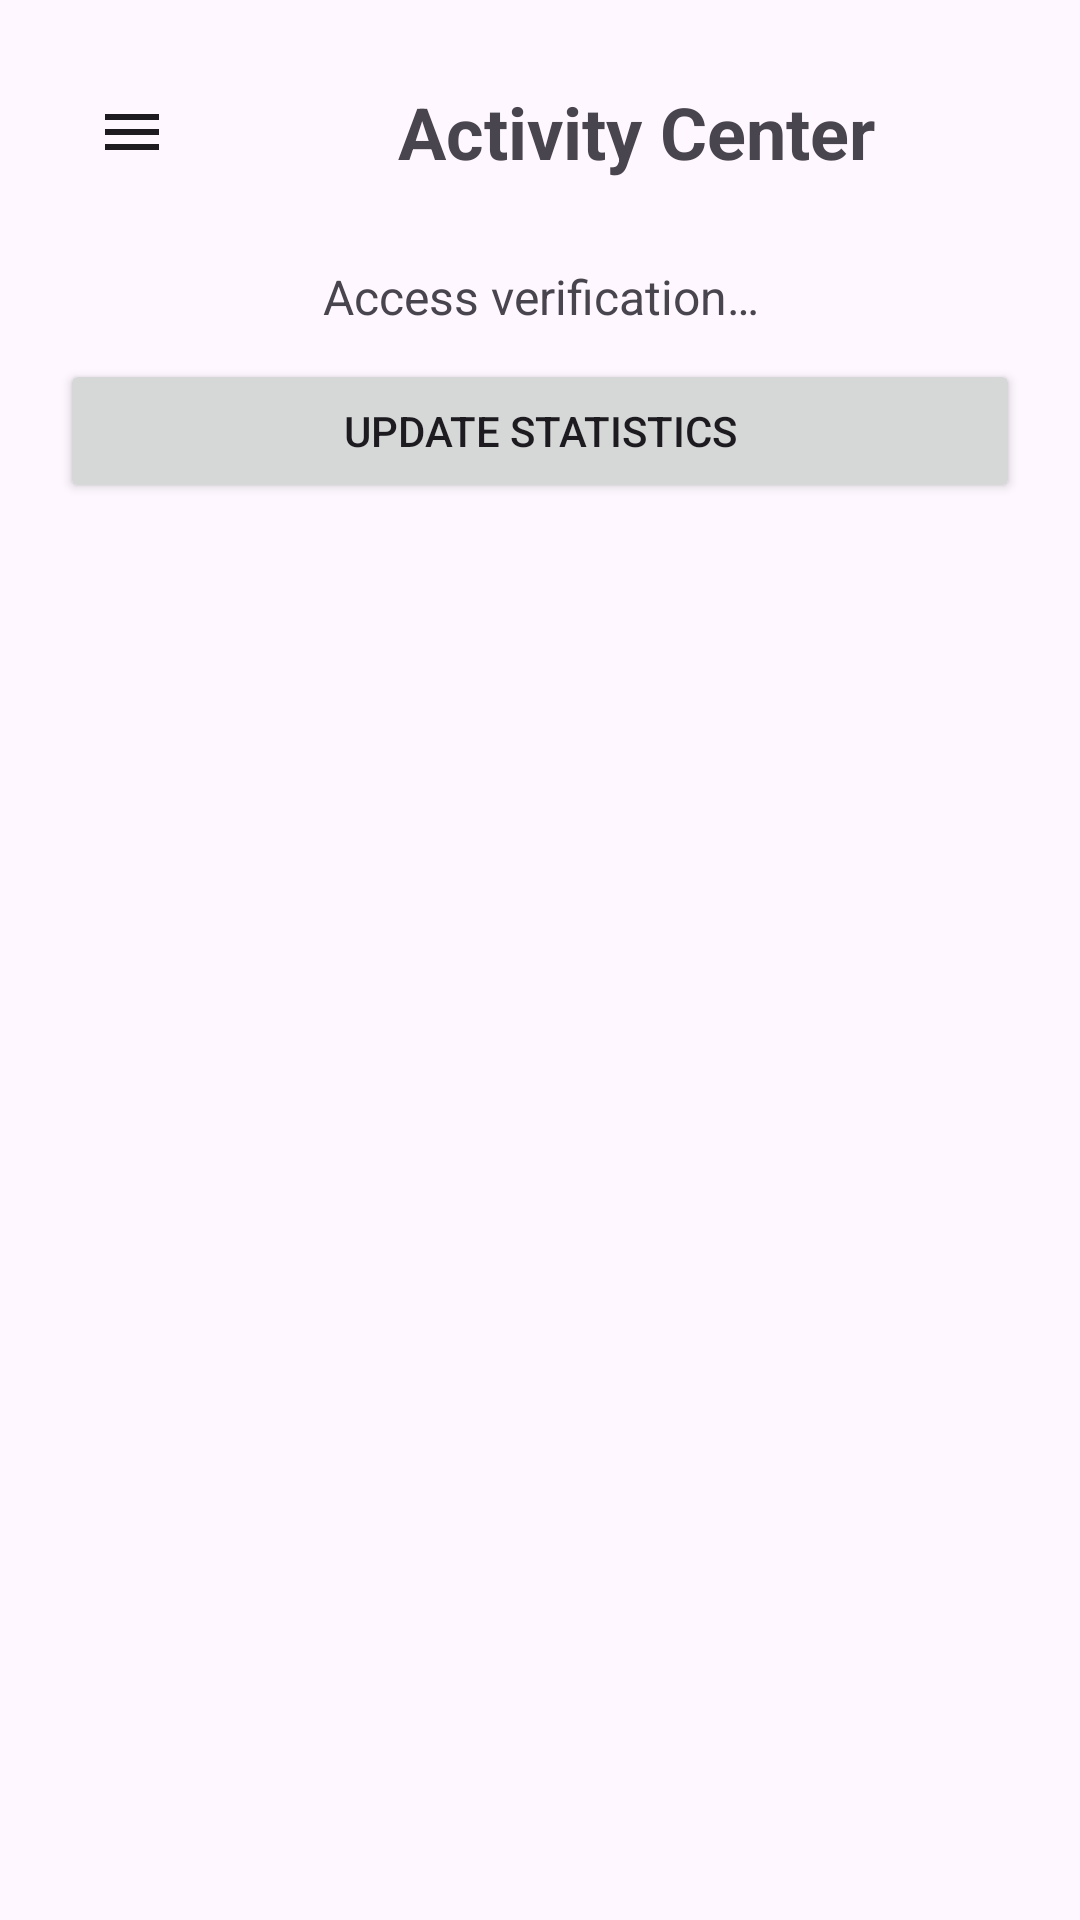

Where to tap for icons on this 1080px x 1920px app screen, as (x,y):
Меню: (132,132)
